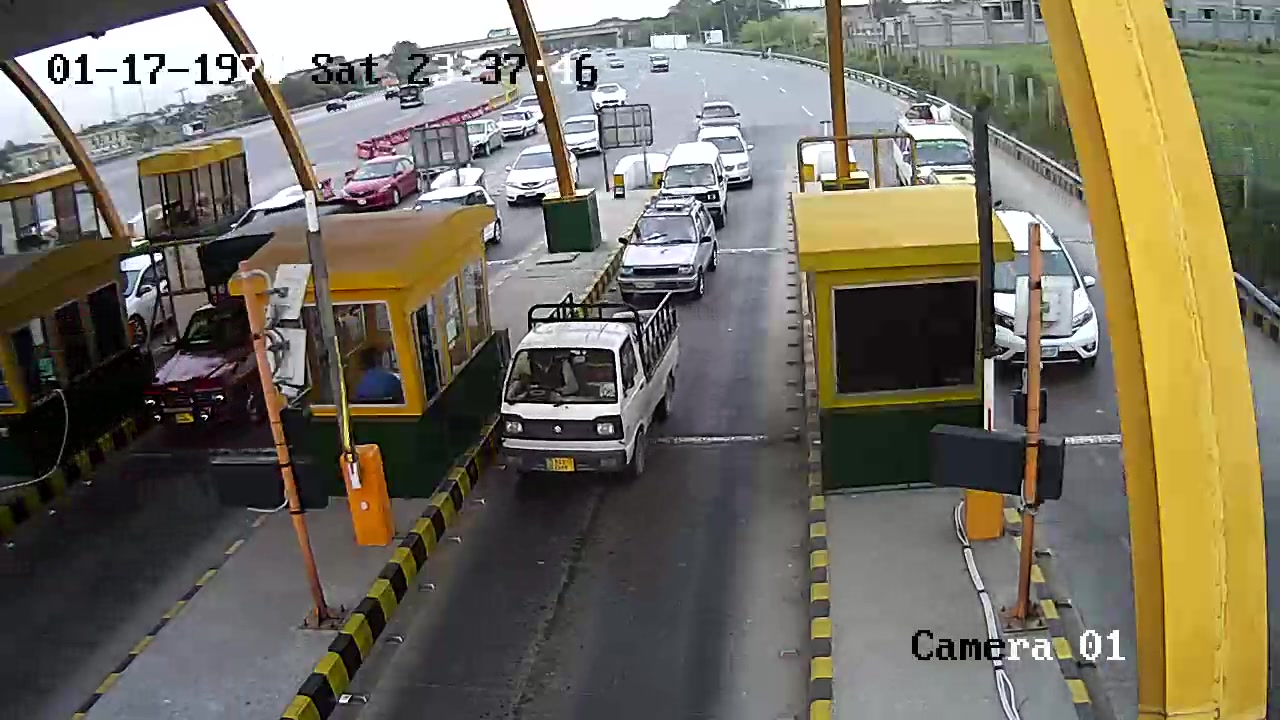F1: (499, 291, 700, 506), (618, 193, 721, 301)
